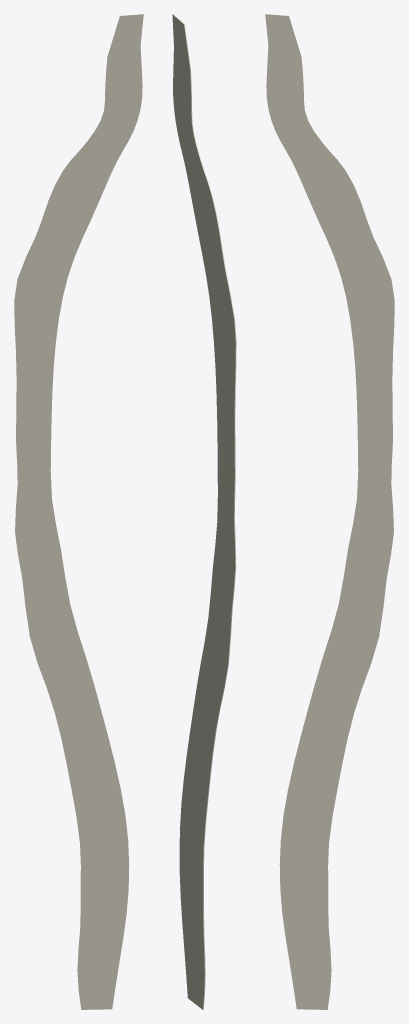
3 views of the same model, side by side, from view 1: azimuth 90°, elevation 25°; view 2: azimuth 210°, elevation 25°; view 3: azimuth 270°, elevation 25° (orthographic). The views are drawn at different scales.
Parts seen in each view (by area): view 1: ZA_cdcd714581b8ccdf; view 2: ZA_cdcd714581b8ccdf; view 3: ZA_cdcd714581b8ccdf.
Part boxes in pixels (box(x1,y1,x2,y2)): ZA_cdcd714581b8ccdf: box(14, 14, 143, 1009); ZA_cdcd714581b8ccdf: box(172, 14, 236, 1009); ZA_cdcd714581b8ccdf: box(265, 14, 394, 1009).
Size of the model in its own units: 0.000505 by 0.5812 by 0.0685.
